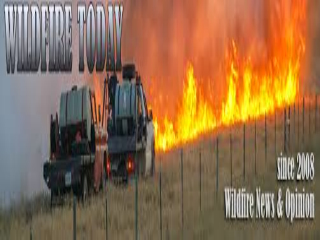fire: (150, 54, 312, 150), (247, 5, 314, 127)
